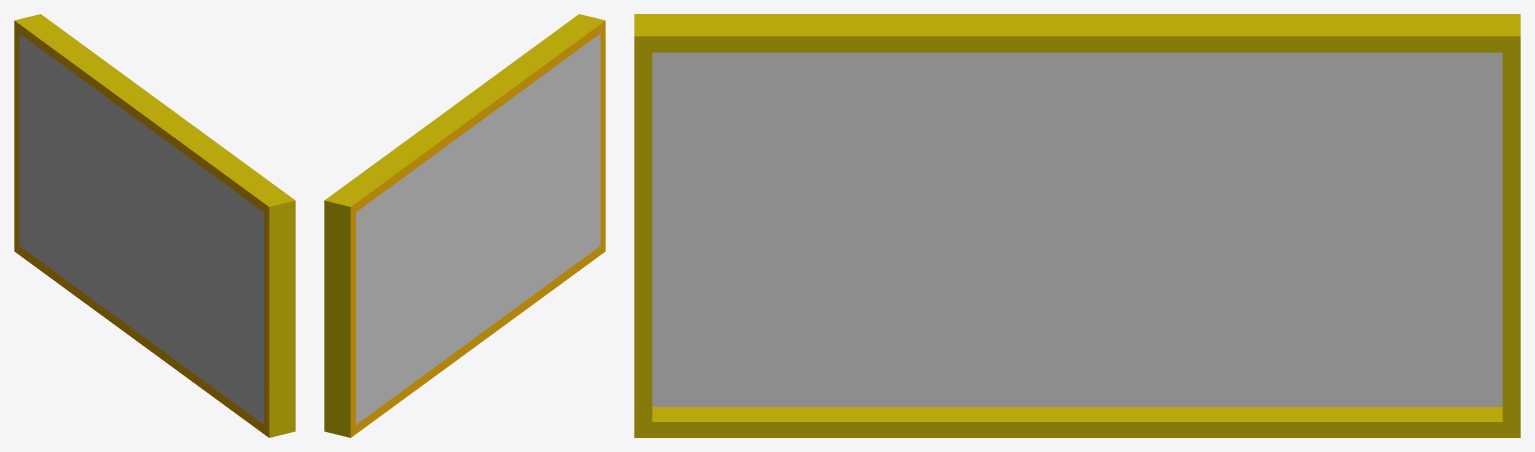
The model's file is window_4x2.dae.
3 renders of one model, left to right at view 1: azimuth 30°, elevation 25°; view 2: azimuth 150°, elevation 25°; view 3: azimuth 270°, elevation 25°, orthographic. The views are drawn at different scales.
Parts seen in each view (by area): view 1: Cube; view 2: Cube; view 3: Cube.
Boxes of the visible parts, x1,y1,x2,y2 form: Cube: (14,14,295,437); Cube: (324,14,605,437); Cube: (634,14,1520,437).
Bounding box in the file's own units: 0.06 × 1 × 0.5.
